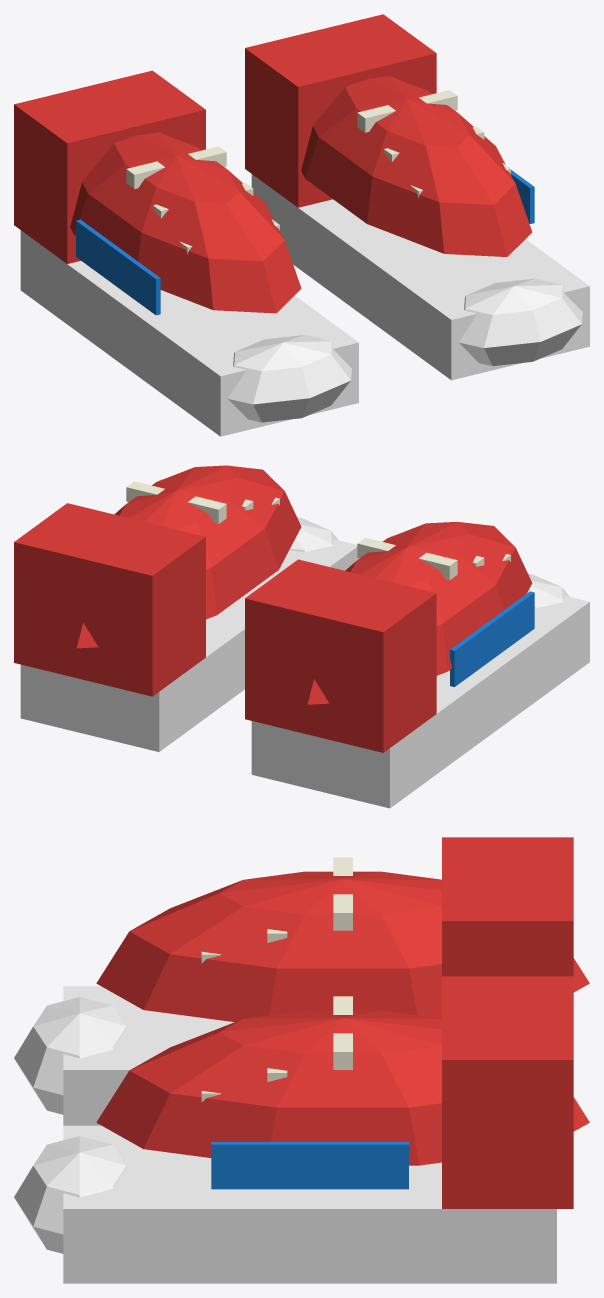
Rendered from sko.glb.
3 renders of one model, top to bottom at view 1: azimuth 30°, elevation 25°; view 2: azimuth 150°, elevation 25°; view 3: azimuth 270°, elevation 25°, orthographic. The views are drawn at different scales.
Parts seen in each view (by area): view 1: sko; view 2: sko; view 3: sko.
Part boxes in pixels (bbox=[...]): sko: bbox=[14, 14, 589, 436]; sko: bbox=[14, 465, 589, 808]; sko: bbox=[14, 837, 589, 1283].
Size of the model in its own units: 0.328 by 0.15 by 0.35.
